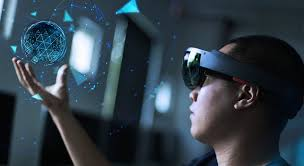hololens: (181, 44, 301, 122)
